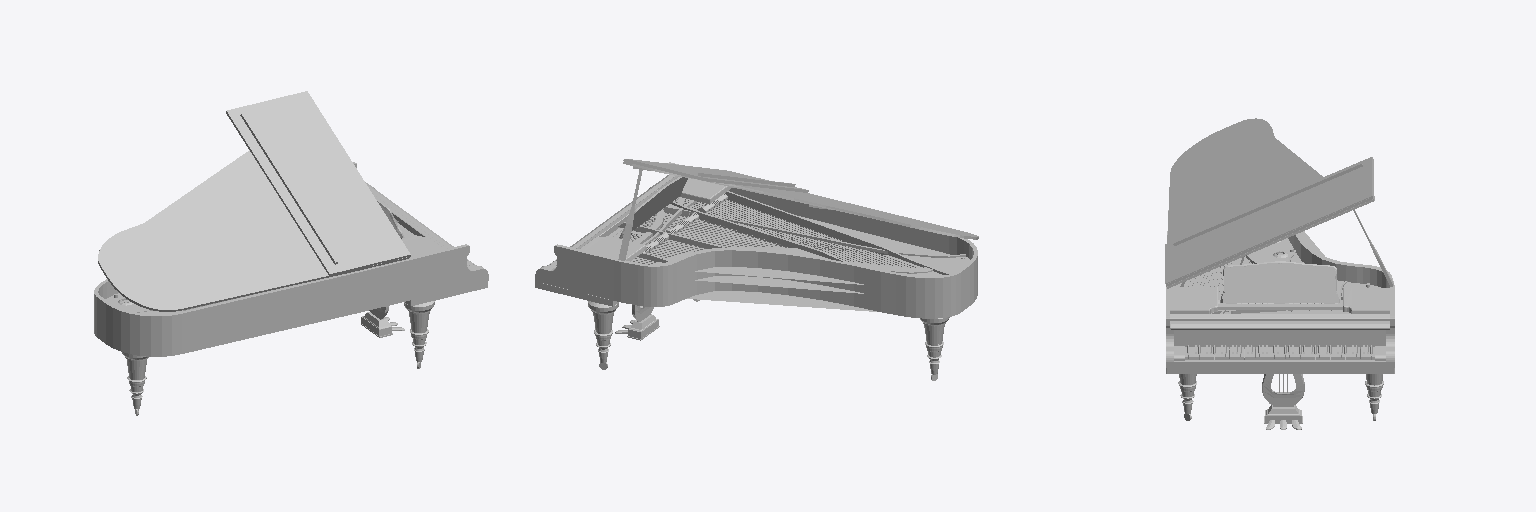
The model's file is Piano.obj.
The picture shows the model from 3 angles: view 1: azimuth 30°, elevation 25°; view 2: azimuth 150°, elevation 25°; view 3: azimuth 270°, elevation 25°; orthographic projection.
Visible parts, largest first — view 1: Cube.011, Cube.003, Cylinder.019, Cube.009; view 2: Cube.003, Cube.011, Cube.016, Cube.002, Cube.026, Cube.009, Cube.006, Cube.001, Cube.017, Cube.012, Cylinder.019, Cube.055 (+1 smaller); view 3: Cube.011, Cube.003, Cube.001, Cube.009, Cube, Cube.048, Cube.014, Cube.010, Cube.002, Cube.021, Cube.007, Cube.013 (+2 smaller).
Part boxes in pixels (x1,y1,x2,y2): Cube.011: (98, 91, 410, 311); Cube.003: (94, 162, 488, 356); Cylinder.019: (127, 359, 146, 415); Cube.009: (401, 235, 444, 257); Cube.003: (535, 162, 977, 318); Cube.011: (624, 159, 978, 239); Cube.016: (637, 200, 950, 263); Cube.002: (609, 197, 970, 284); Cube.026: (633, 199, 916, 267); Cube.009: (579, 178, 732, 261); Cube.006: (725, 191, 949, 274); Cube.001: (619, 176, 687, 238); Cube.017: (670, 202, 848, 262); Cube.012: (663, 206, 965, 257); Cylinder.019: (924, 324, 944, 380); Cube.055: (643, 193, 727, 253); Cube.011: (1165, 118, 1374, 283); Cube.003: (1166, 210, 1394, 367); Cube.001: (1221, 261, 1339, 302); Cube.009: (1170, 287, 1389, 313); Cube: (1171, 321, 1389, 329); Cube.048: (1185, 347, 1374, 359); Cube.014: (1170, 314, 1389, 320); Cube.010: (1166, 368, 1394, 373); Cube.002: (1241, 231, 1380, 313); Cube.021: (1166, 197, 1374, 288); Cube.007: (1262, 374, 1304, 404); Cube.013: (1218, 304, 1342, 309).
Size of the model in its own units: 6.8 by 3.98 by 3.85.